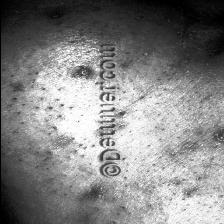Non-Cancerous Skin Condition: (1, 0, 92, 152), (68, 178, 113, 214), (204, 118, 224, 146)
